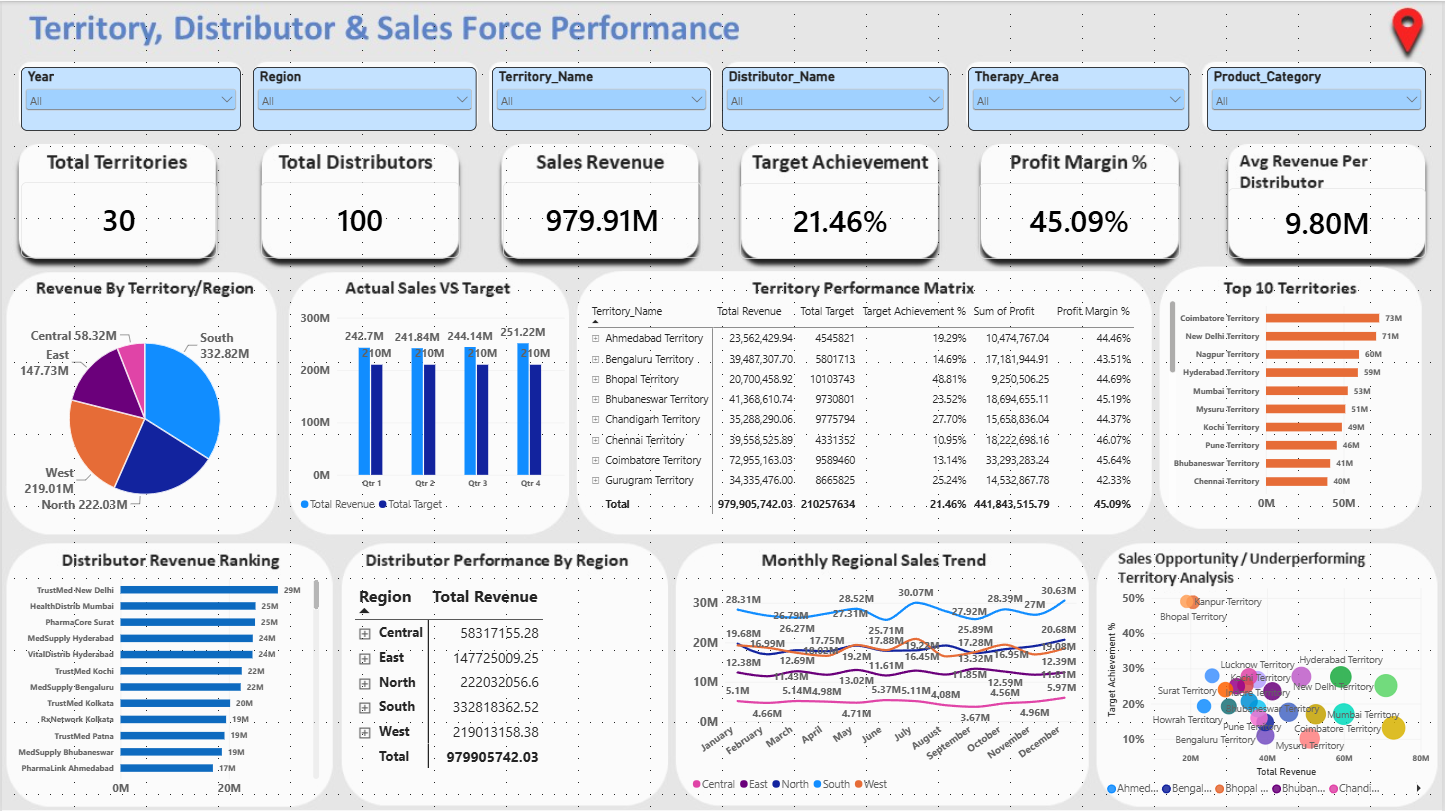

The page's visual inventory and layout, read from the dashboard file:
{"tool":"powerbi","page":{"name":" Territory, Distributor & Sales Force Performance","canvas":[1920,1080],"ordinal":3},"visuals":[{"type":"card","fields":{"Values":["Territories.Total Territories"]},"box":[24.7,240,260.6,101.5],"z":0},{"type":"card","fields":{"Values":["Distributors.Total Distributor"]},"box":[345.6,240,264.7,101.5],"z":1000},{"type":"card","fields":{"Values":["Sales.Total Revenue"]},"box":[667.9,240,264.7,101.5],"z":2000},{"type":"card","fields":{"Values":["Sales.Target Achievement %"]},"box":[983.6,240.8,267.5,100.7],"z":3000},{"type":"card","fields":{"Values":["Sales.Profit Margin %"]},"box":[1303.1,240.8,267.5,100.7],"z":4000},{"type":"card","fields":{"Values":["Sales.Avg Revenue Per Distributor"]},"box":[1635.1,248.7,264.4,92.9],"z":5000},{"type":"slicer","fields":{"Values":["Date.Year"]},"box":[25.2,86.6,293.5,85],"z":6000},{"type":"slicer","fields":{"Values":["Distributors.Region"]},"box":[334.6,86.4,297.6,85],"z":7000},{"type":"slicer","fields":{"Values":["Territories.Territory_Name"]},"box":[652.8,86.4,292.1,85],"z":8000},{"type":"slicer","fields":{"Values":["Distributors.Distributor_Name"]},"box":[960,86.4,301.7,85],"z":9000},{"type":"slicer","fields":{"Values":["Products.Therapy_Area"]},"box":[1287.8,86.4,294.9,85],"z":10000},{"type":"slicer","fields":{"Values":["Products.Product_Category"]},"box":[1607.3,86.4,292.1,85],"z":11000},{"type":"pieChart","fields":{"Category":["Distributors.Region"],"Y":["Sales.Total Revenue"]},"box":[0,396.6,380.9,321],"z":12000},{"type":"clusteredColumnChart","fields":{"Category":["Date.Date.Variation.Date Hierarchy.Quarter"],"Y":["Sales.Total Revenue","Sales.Total Target"]},"box":[381.3,396.3,385.4,304.5],"z":13000},{"type":"pivotTable","fields":{"Rows":["Territories.Territory_Name","Distributors.Region"],"Values":["Sales.Total Revenue","Sales.Total Target","Sales.Target Achievement %","Sum(Sales.Profit)","Sales.Profit Margin %"]},"box":[765.3,384,816,315.4],"z":14000},{"type":"clusteredBarChart","fields":{"Category":["Territories.Territory_Name"],"Y":["Sales.Total Revenue"]},"box":[1545.6,384,353.8,315.4],"z":15000},{"type":"clusteredBarChart","fields":{"Category":["Distributors.Distributor_Name"],"Y":["Sales.Total Revenue"]},"box":[0,747.4,438.9,331.9],"z":16000},{"type":"pivotTable","fields":{"Rows":["Distributors.Region","Distributors.Distributor_Name"],"Values":["Sales.Total Revenue"]},"box":[454.8,758.6,432.8,321],"z":17000},{"type":"lineChart","fields":{"Category":["Date.Date.Variation.Date Hierarchy.Month"],"Series":["Distributors.Region"],"Y":["Sales.Total Revenue"]},"box":[903.3,752.3,544.5,321],"z":17001},{"type":"scatterChart","fields":{"X":["Sales.Total Revenue"],"Y":["Sales.Target Achievement %"],"Series":["Territories.Territory_Name"],"Size":["Sales.Total Profit"]},"box":[1457.8,758.4,462.2,320.9],"z":17002}]}

Visuals, with their boxes in screenshot pixels (x1, y1, x2, y2), scaled from the page's 1920x1080 canvas onto the 1445x811 screenshot:
card - Territories.Total Territories: [19, 180, 215, 256]
card - Distributors.Total Distributor: [260, 180, 459, 256]
card - Sales.Total Revenue: [503, 180, 702, 256]
card - Sales.Target Achievement %: [740, 181, 942, 256]
card - Sales.Profit Margin %: [981, 181, 1182, 256]
card - Sales.Avg Revenue Per Distributor: [1231, 187, 1430, 257]
slicer - Date.Year: [19, 65, 240, 129]
slicer - Distributors.Region: [252, 65, 476, 129]
slicer - Territories.Territory_Name: [491, 65, 711, 129]
slicer - Distributors.Distributor_Name: [722, 65, 950, 129]
slicer - Products.Therapy_Area: [969, 65, 1191, 129]
slicer - Products.Product_Category: [1210, 65, 1429, 129]
pieChart - Distributors.Region x Sales.Total Revenue: [0, 298, 287, 539]
clusteredColumnChart - Date.Date.Variation.Date Hierarchy.Quarter x Sales.Total Revenue: [287, 298, 577, 526]
pivotTable - Territories.Territory_Name x Distributors.Region: [576, 288, 1190, 525]
clusteredBarChart - Territories.Territory_Name x Sales.Total Revenue: [1163, 288, 1429, 525]
clusteredBarChart - Distributors.Distributor_Name x Sales.Total Revenue: [0, 561, 330, 810]
pivotTable - Distributors.Region x Distributors.Distributor_Name: [342, 570, 668, 810]
lineChart - Date.Date.Variation.Date Hierarchy.Month x Distributors.Region: [680, 565, 1090, 806]
scatterChart - Sales.Total Revenue x Sales.Target Achievement %: [1097, 570, 1444, 810]
